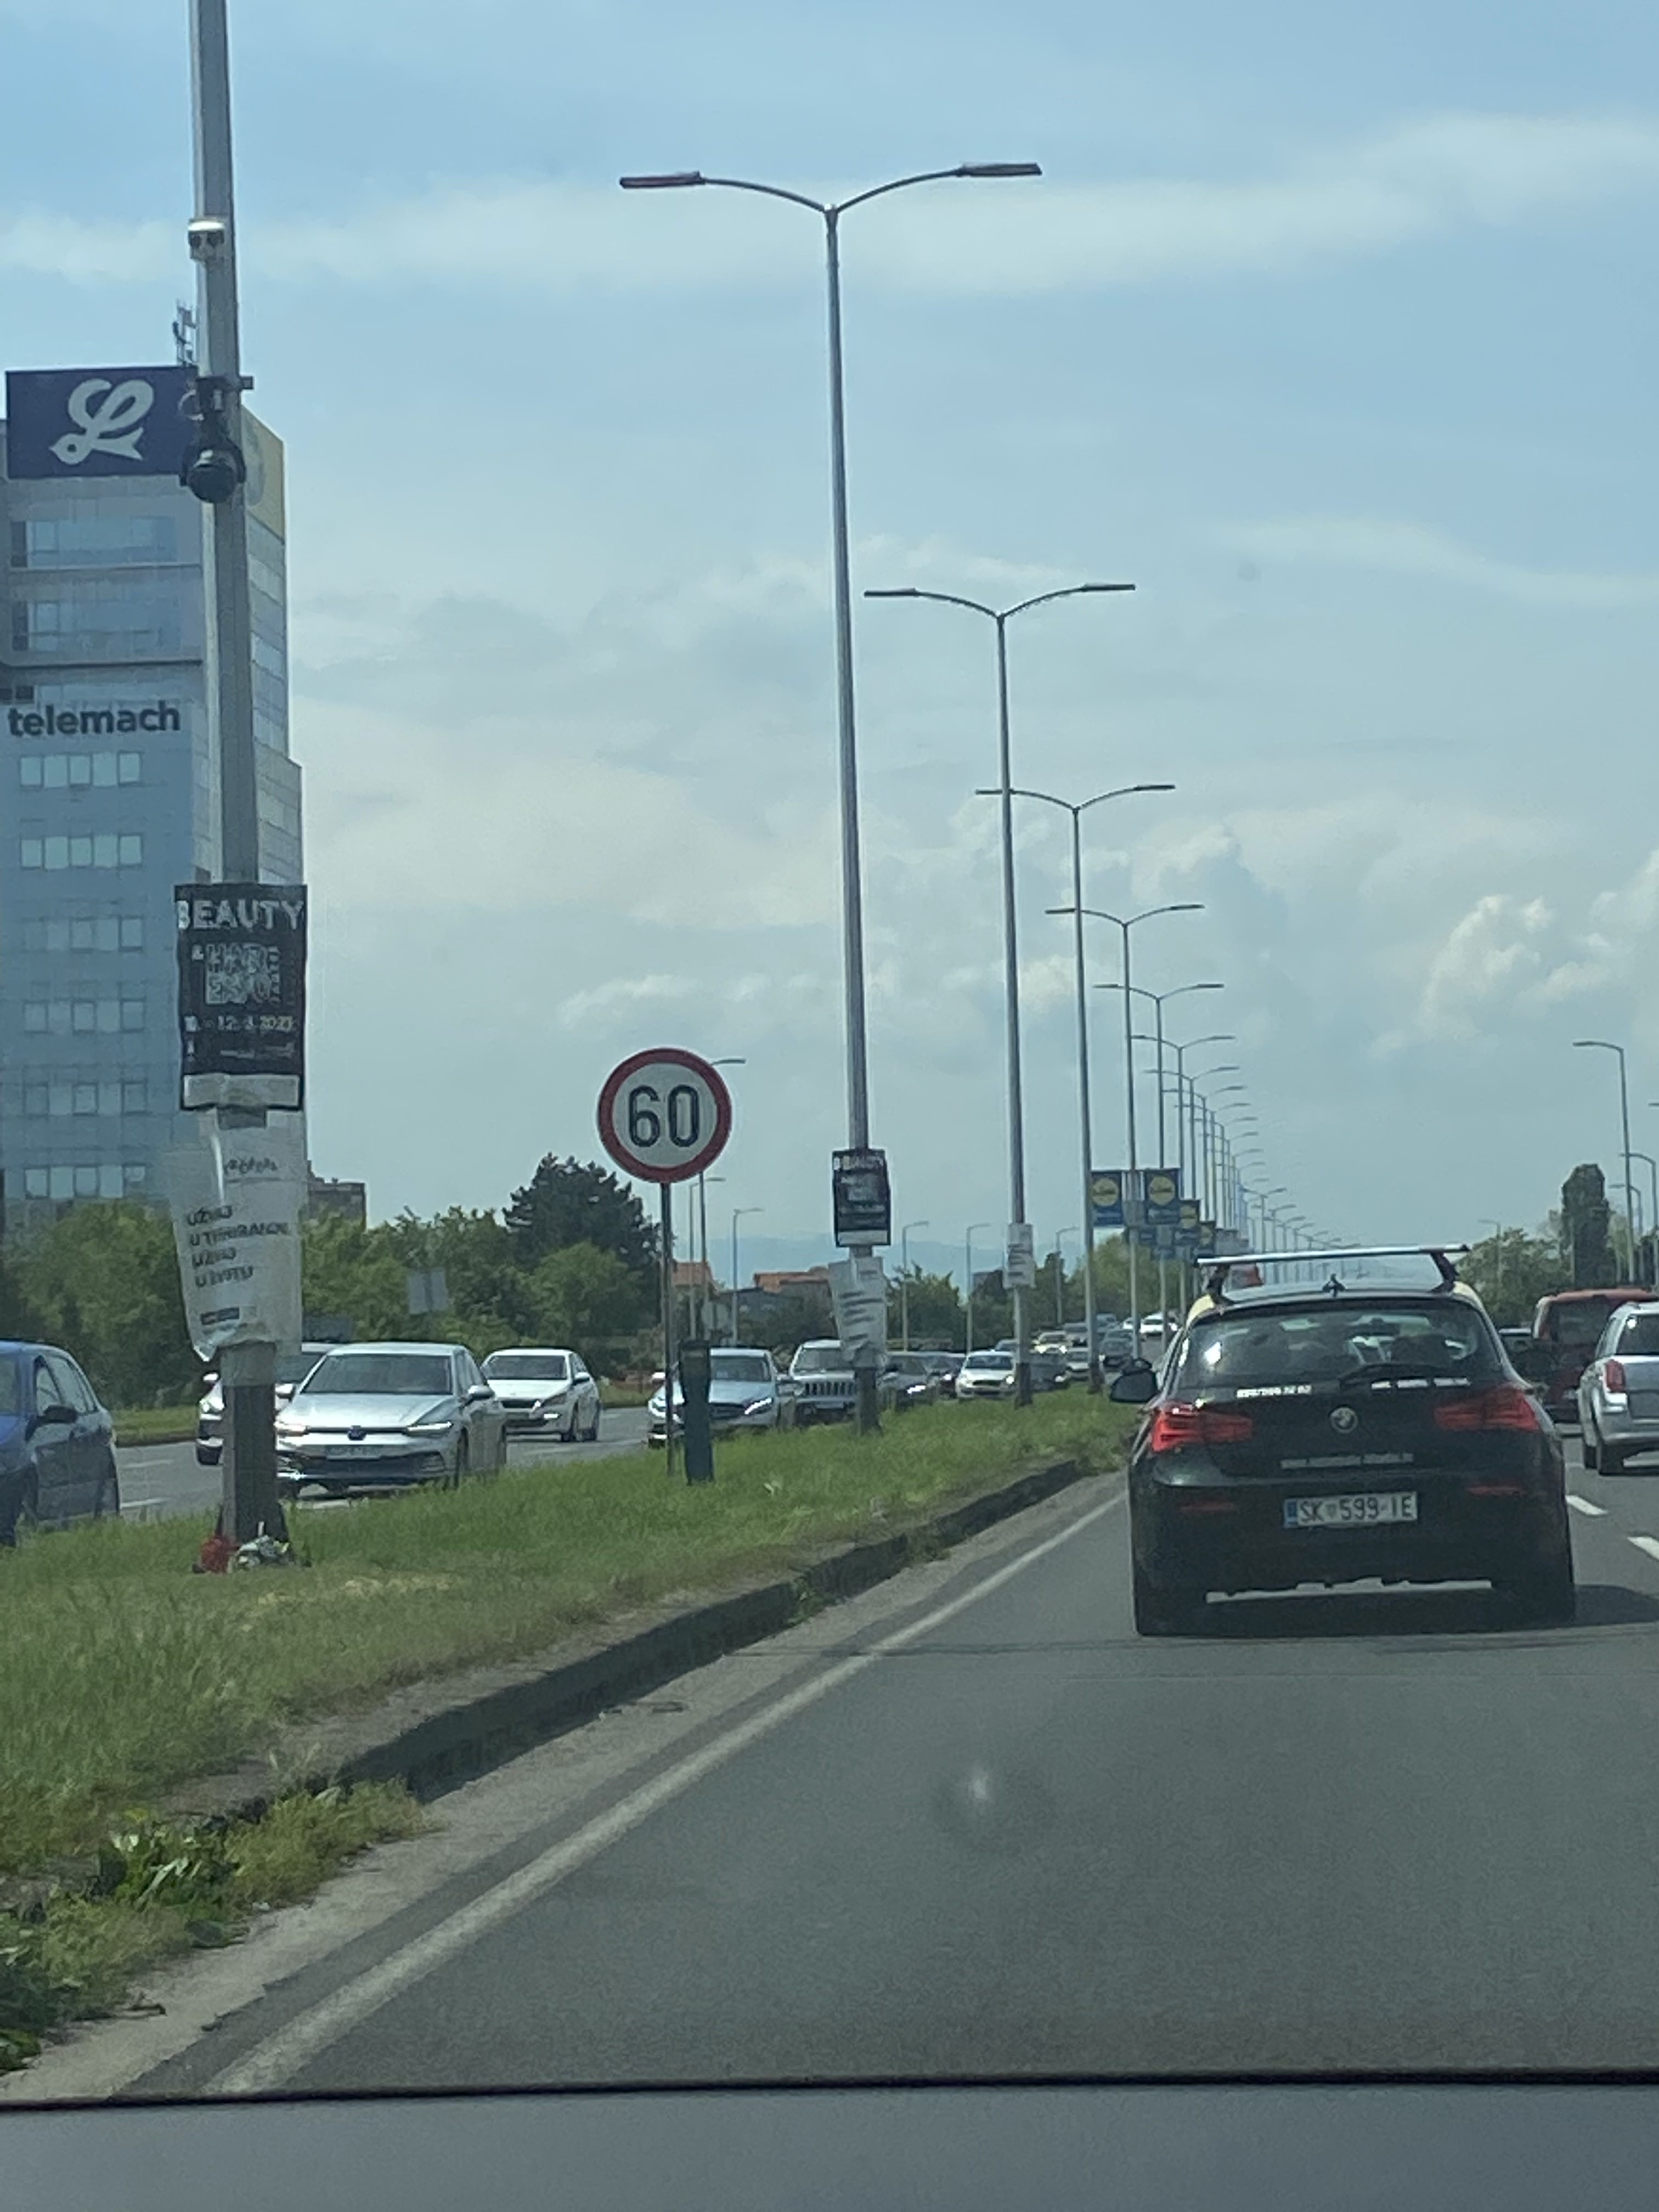Ograničenje brzine 60: (596, 1047, 734, 1183)
